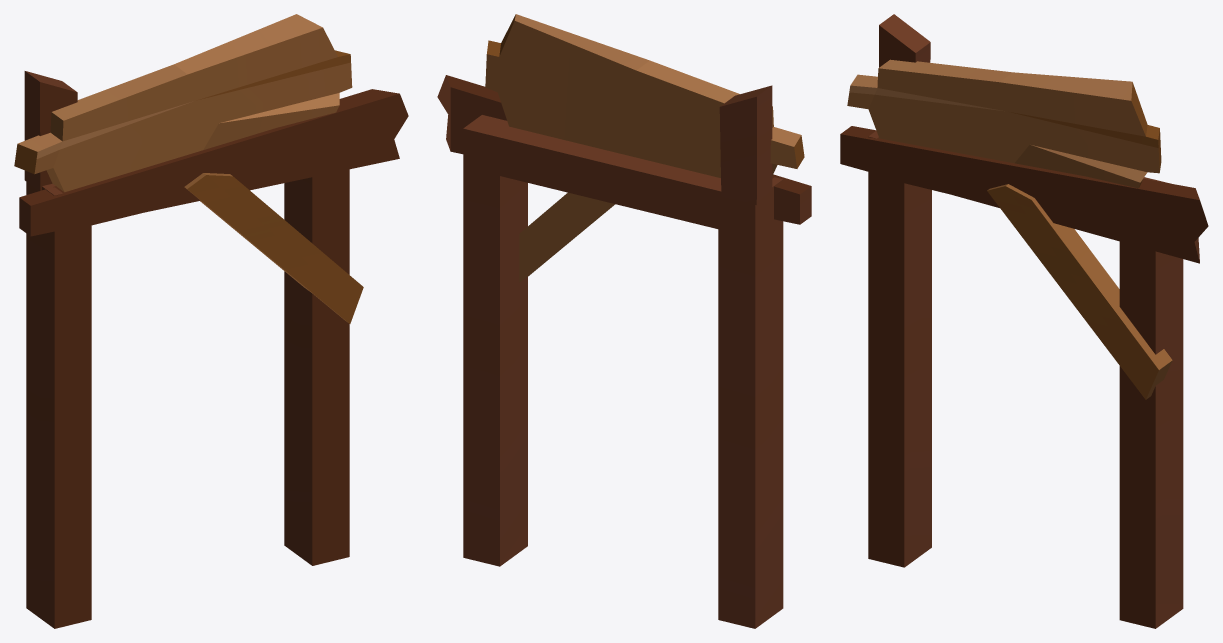
The model's file is door3.fbx.
The picture shows the model from 3 angles, left to right: view 1: azimuth 30°, elevation 25°; view 2: azimuth 150°, elevation 25°; view 3: azimuth 330°, elevation 25°; orthographic projection. The views are drawn at different scales.
Visible parts, largest first — view 1: polySurface4; view 2: polySurface4; view 3: polySurface4.
Part boxes in pixels (<box>): polySurface4: <box>14,14,408,628</box>; polySurface4: <box>437,14,811,628</box>; polySurface4: <box>840,14,1208,628</box>.
Bounding box in the file's own units: 166 × 227 × 25.59.
